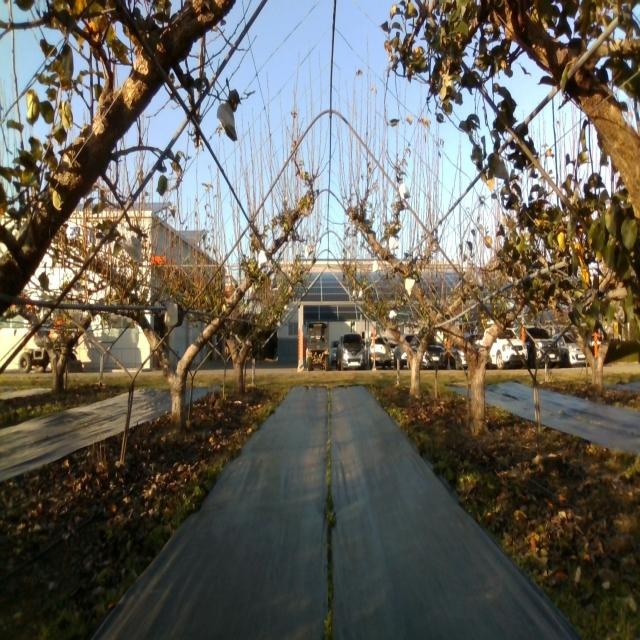pearbags: (217, 102, 238, 143), (118, 235, 142, 263), (493, 156, 509, 182)
